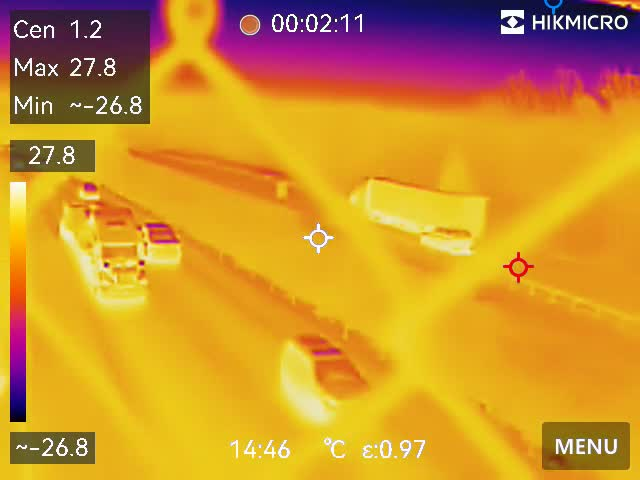heavyTruck: (55, 196, 153, 306), (342, 170, 487, 238)
largeCar: (277, 324, 364, 427)
lightTruck: (135, 211, 185, 269)
vehicle: (418, 226, 475, 253)
